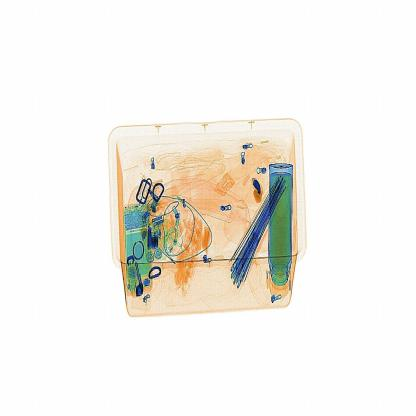wrench: (251, 172, 263, 206)
